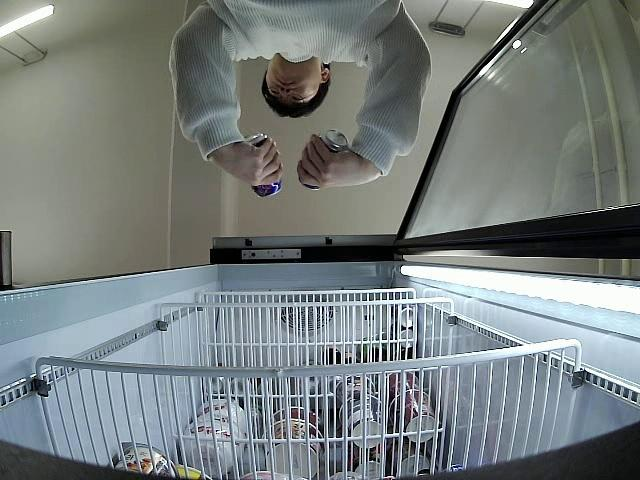00_hand: (298, 133, 375, 188), (224, 135, 285, 187)
14_welchsGrape: (295, 130, 348, 191), (245, 134, 281, 200)
